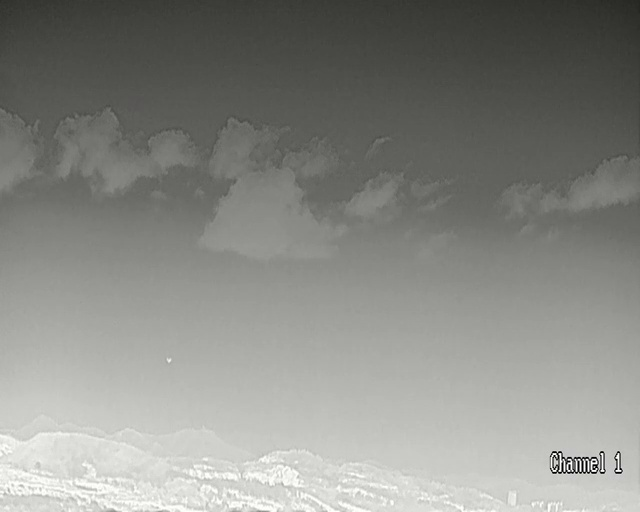uav: (166, 358, 171, 362)
